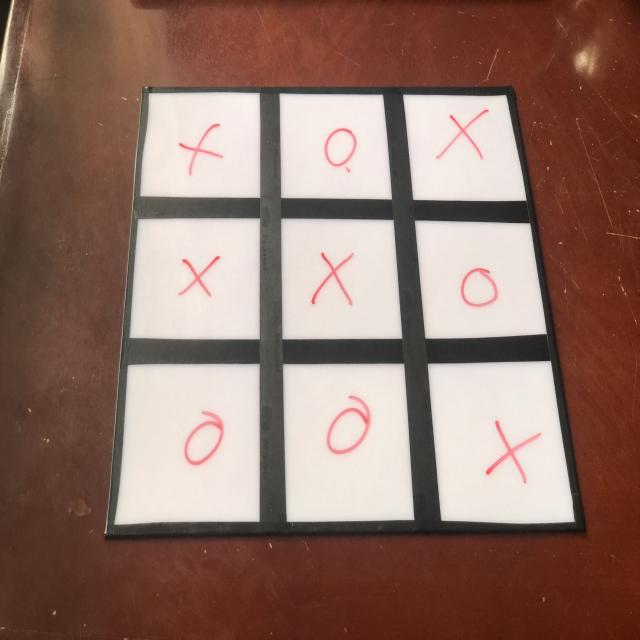o: (322, 394, 378, 470), (182, 408, 226, 468), (458, 262, 504, 315), (321, 124, 365, 177)
table: (102, 83, 584, 533)
x: (479, 418, 541, 483), (436, 110, 495, 169), (308, 247, 357, 305), (176, 123, 224, 181), (177, 248, 223, 297)
